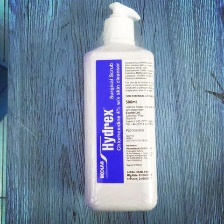cleaning_solution: (81, 1, 160, 214)
